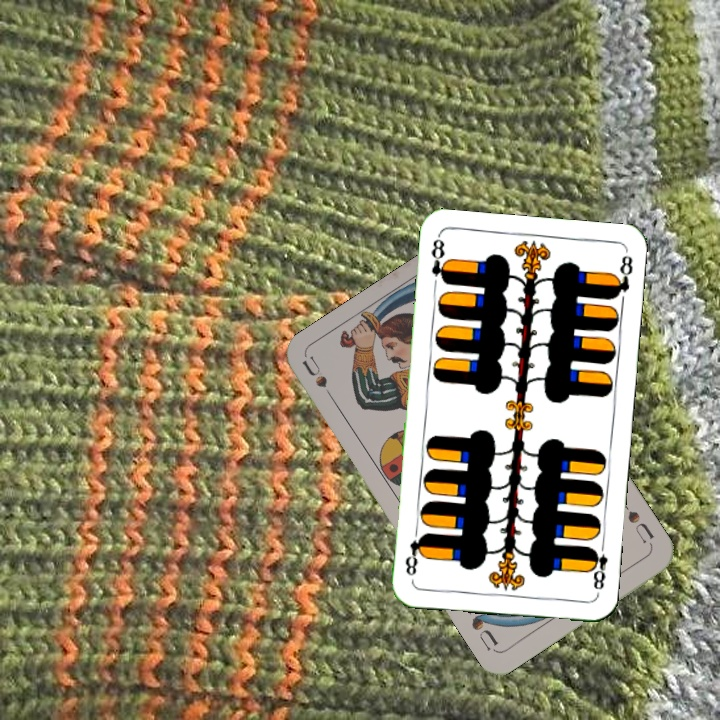E8: (585, 538, 610, 592), (427, 233, 451, 287)
SU: (299, 353, 340, 408), (617, 496, 657, 549)
